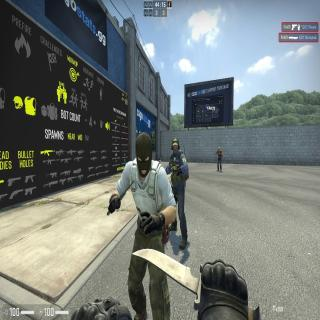CT-Body: (167, 137, 188, 242)
CT-Head: (172, 137, 179, 155)
T-Body: (133, 133, 165, 320), (217, 146, 222, 172)
T-Head: (136, 133, 152, 178), (218, 147, 220, 151)
